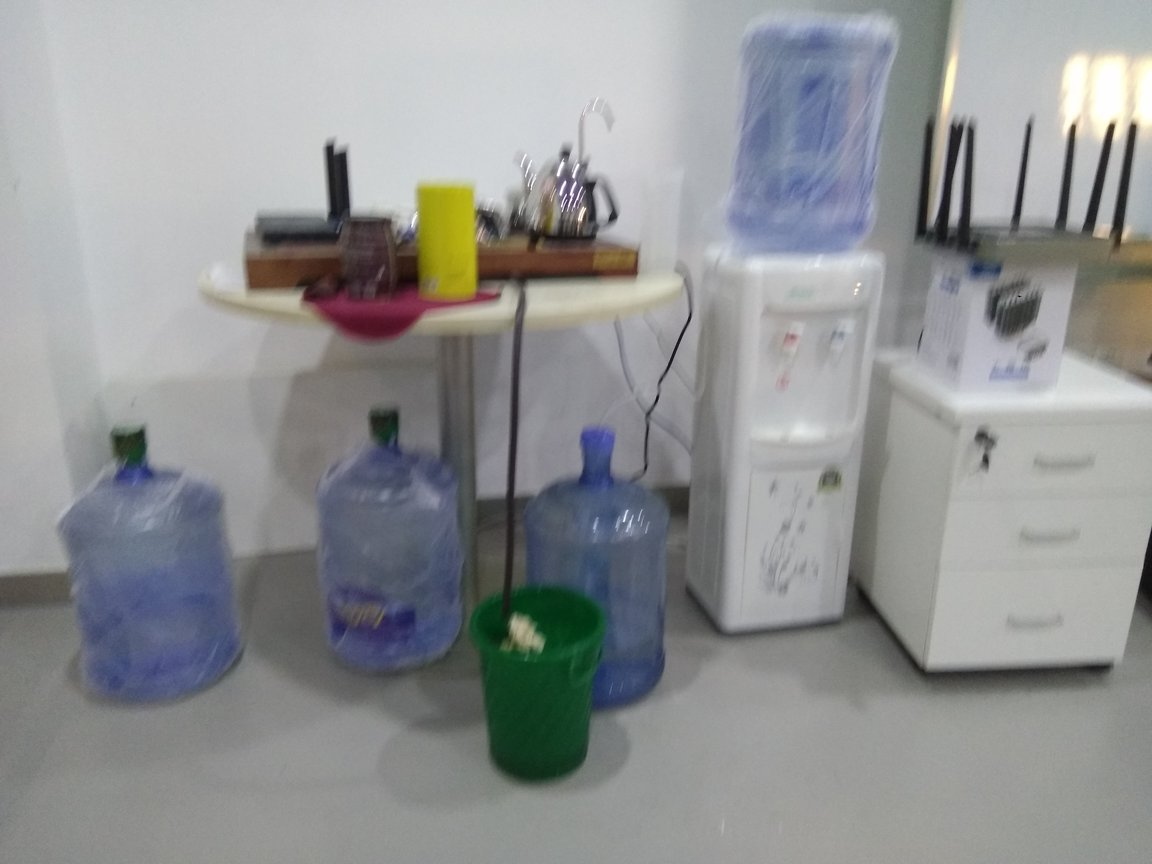drawer chest: (868, 340, 1152, 678)
scuttlebutt: (58, 417, 245, 707), (310, 402, 469, 680), (528, 422, 674, 718), (724, 11, 893, 257)
water dispenser: (696, 238, 862, 632)
